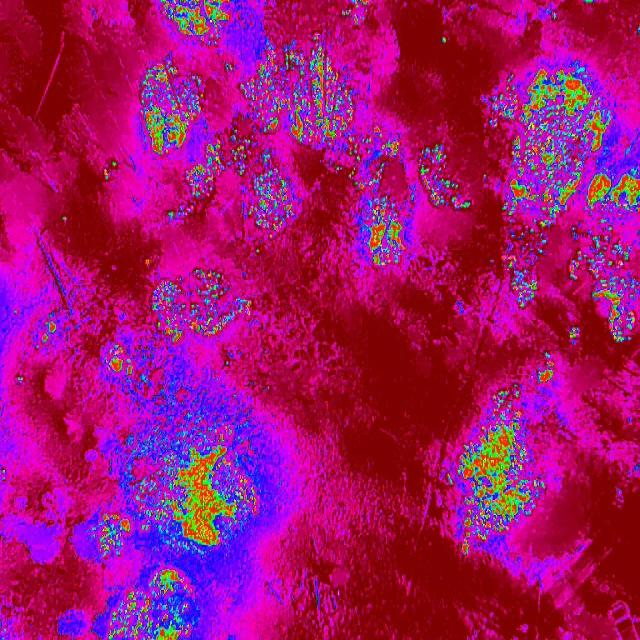fire: (94, 392, 262, 559), (482, 60, 612, 228), (446, 385, 550, 560), (242, 36, 367, 150), (566, 226, 640, 352), (152, 264, 252, 347), (104, 564, 202, 640), (138, 54, 206, 158), (251, 148, 297, 234), (158, 0, 234, 50), (504, 228, 550, 310), (363, 189, 407, 272), (418, 146, 472, 212), (96, 342, 155, 391), (611, 130, 640, 214), (332, 151, 386, 187), (184, 158, 223, 200), (208, 128, 244, 158), (33, 312, 60, 348), (536, 350, 558, 386), (342, 0, 368, 28), (220, 157, 250, 177), (381, 134, 403, 160), (536, 3, 558, 23), (166, 204, 193, 220), (102, 158, 118, 182), (0, 464, 12, 484), (408, 185, 418, 207), (13, 372, 28, 386), (224, 58, 236, 74), (440, 34, 449, 48), (372, 123, 382, 135), (222, 358, 232, 367), (60, 214, 68, 225), (583, 0, 597, 5), (254, 248, 262, 256), (636, 26, 640, 36)
